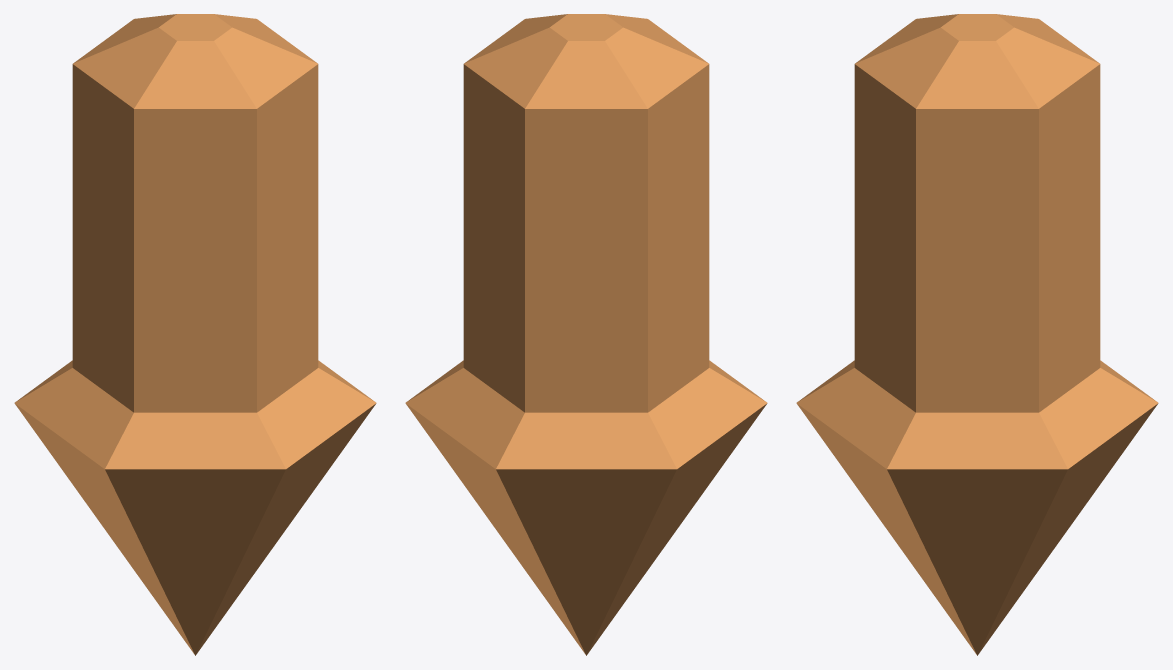
File: indication_marker.dae
The picture shows the model from 3 angles, left to right: view 1: azimuth 30°, elevation 25°; view 2: azimuth 150°, elevation 25°; view 3: azimuth 270°, elevation 25°; orthographic projection.
Parts seen in each view (by area): view 1: Cylinder; view 2: Cylinder; view 3: Cylinder.
Part boxes in pixels (box(x1,y1,x2,y2)): Cylinder: box(14, 14, 376, 655); Cylinder: box(405, 14, 767, 655); Cylinder: box(796, 14, 1158, 655).
Size of the model in its own units: 1.73 by 2 by 3.83.
